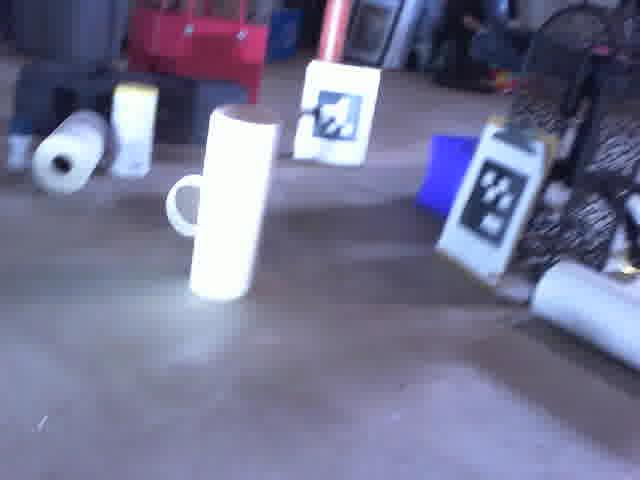coral: (185, 100, 287, 302), (530, 253, 640, 373), (165, 171, 208, 241)
